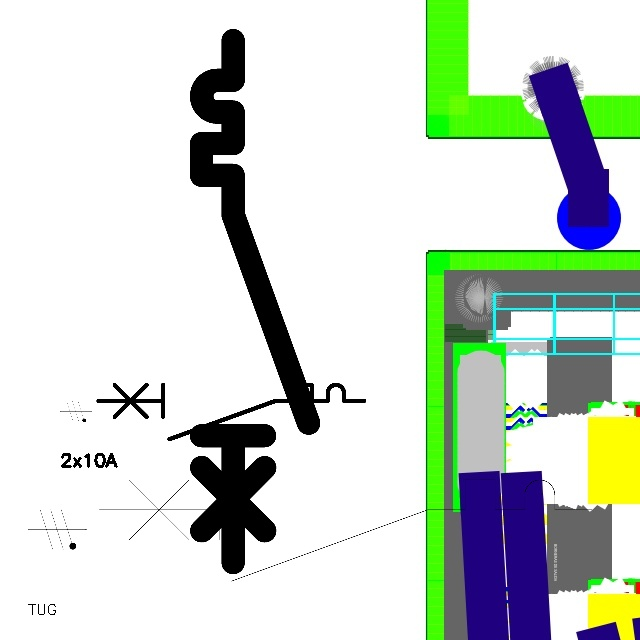interruptor_termomagnetico: (188, 27, 322, 576), (86, 467, 604, 594), (91, 378, 370, 446)
